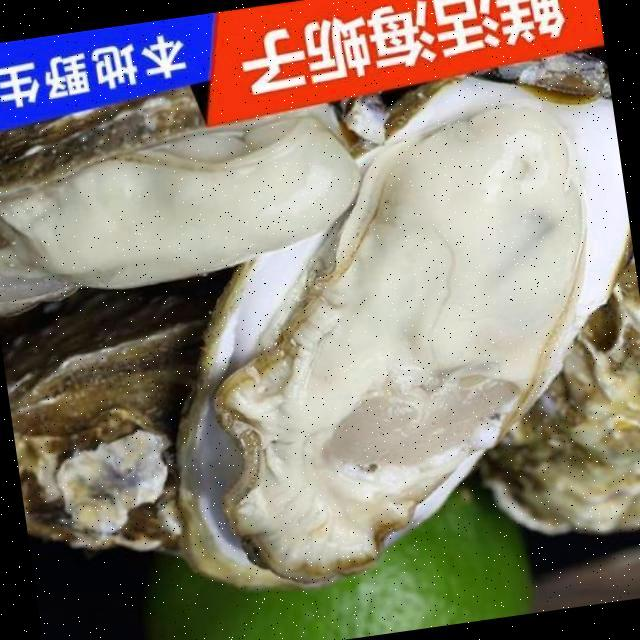Oyster-Closed: (480, 246, 640, 537)
Oyster-Open: (176, 54, 633, 594), (0, 84, 360, 311)
